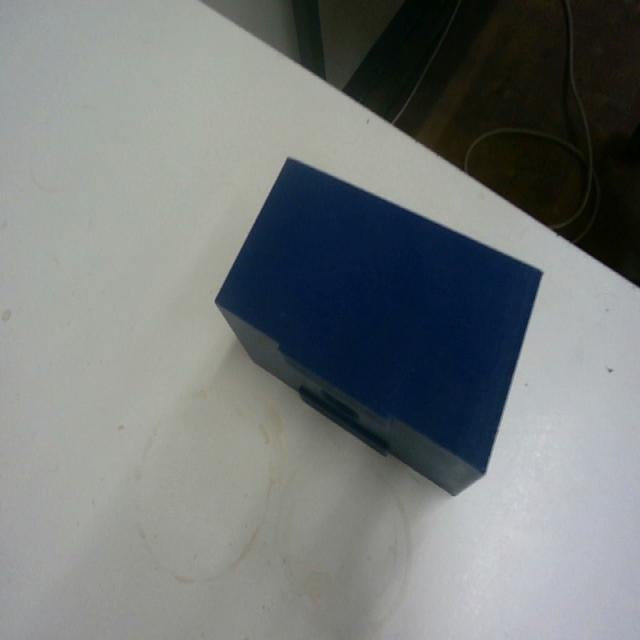Blue Cuboid: (212, 151, 545, 497)
